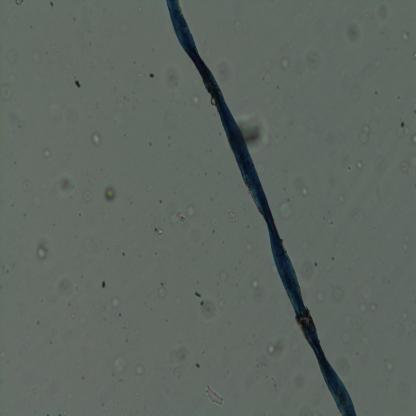Background material: (238, 108, 268, 149), (188, 286, 214, 320), (200, 383, 224, 406), (265, 334, 286, 358), (56, 171, 74, 197), (305, 50, 322, 74), (344, 22, 364, 42), (375, 0, 393, 21), (164, 63, 179, 88), (275, 196, 292, 218), (32, 242, 52, 260), (111, 354, 126, 378), (293, 177, 310, 198), (175, 342, 185, 374), (300, 259, 315, 280), (345, 158, 366, 172), (170, 208, 186, 226), (396, 112, 409, 134), (332, 282, 346, 300), (104, 186, 118, 204), (76, 356, 86, 381), (225, 210, 240, 226), (403, 232, 415, 251), (59, 279, 72, 296), (0, 83, 13, 100), (277, 55, 292, 69), (82, 187, 95, 203), (184, 201, 196, 218), (90, 130, 102, 147), (359, 124, 370, 142), (189, 92, 202, 107), (8, 48, 21, 62), (316, 286, 326, 304), (351, 88, 363, 102), (109, 296, 121, 310), (20, 178, 32, 192), (401, 28, 412, 43), (392, 322, 402, 338), (342, 324, 352, 340), (158, 285, 167, 301), (32, 51, 43, 64), (219, 270, 229, 284), (361, 333, 371, 346), (387, 358, 395, 374), (260, 75, 271, 86), (360, 299, 368, 314), (400, 161, 410, 173), (371, 120, 380, 133), (244, 237, 253, 250), (398, 308, 407, 321), (252, 276, 260, 290), (337, 192, 346, 204), (217, 299, 226, 311), (369, 300, 377, 313), (271, 371, 276, 391), (153, 226, 164, 235), (136, 365, 144, 377), (41, 149, 51, 158), (66, 391, 75, 400), (32, 386, 40, 396), (148, 70, 156, 78), (395, 92, 402, 101), (375, 105, 381, 115), (10, 73, 16, 83), (100, 278, 106, 288), (74, 79, 80, 89), (413, 96, 416, 115), (196, 360, 202, 369), (51, 44, 57, 53), (378, 29, 384, 36), (131, 103, 136, 111), (16, 0, 24, 5), (137, 5, 142, 13), (331, 254, 337, 260), (412, 135, 416, 144), (36, 319, 42, 325), (148, 306, 154, 312), (329, 219, 334, 226), (87, 39, 92, 46), (120, 378, 124, 386), (75, 284, 79, 292), (95, 102, 99, 110), (373, 90, 379, 95), (159, 280, 164, 286), (48, 339, 53, 345), (40, 297, 44, 304), (209, 195, 213, 202), (255, 364, 260, 369), (314, 260, 317, 268), (412, 54, 416, 60), (71, 312, 75, 318), (104, 316, 108, 322), (50, 2, 54, 8), (222, 238, 226, 244), (146, 185, 150, 191), (78, 212, 82, 217), (158, 199, 162, 204), (168, 142, 172, 147), (154, 251, 158, 256), (115, 245, 119, 250), (122, 251, 126, 256), (132, 59, 136, 64), (203, 172, 208, 176), (211, 229, 215, 234), (130, 200, 133, 206), (228, 319, 231, 325), (168, 134, 171, 140), (73, 16, 76, 22), (117, 312, 121, 316), (148, 142, 152, 146), (164, 318, 168, 322), (218, 171, 222, 175), (212, 112, 216, 116), (246, 224, 250, 228), (277, 85, 280, 90), (11, 203, 14, 208), (57, 413, 62, 416), (53, 221, 56, 226), (219, 131, 222, 136), (81, 274, 84, 278), (68, 302, 71, 306), (209, 149, 212, 153), (138, 73, 141, 77), (24, 212, 26, 217), (114, 87, 116, 92), (124, 95, 126, 100), (239, 261, 242, 264), (106, 407, 108, 411), (124, 133, 126, 137), (7, 269, 9, 273), (126, 338, 128, 342), (46, 414, 48, 416), (203, 242, 204, 246)
Cotton: (166, 0, 354, 416)
